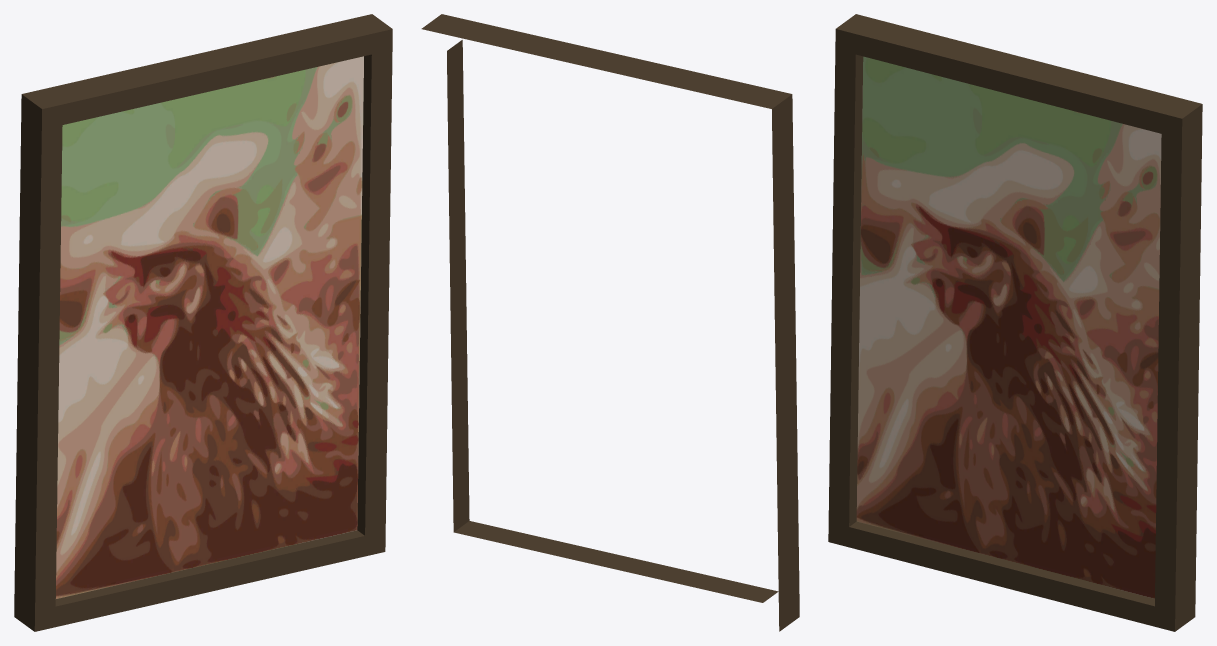
The model's file is TallPainting 2.glb.
3 views of the same model, side by side, from view 1: azimuth 30°, elevation 25°; view 2: azimuth 150°, elevation 25°; view 3: azimuth 330°, elevation 25° (orthographic).
Parts seen in each view (by area): view 1: Cube.001, Cube; view 2: Cube; view 3: Cube.001, Cube.
Boxes of the visible parts, x1,y1,x2,y2 form: Cube.001: [56, 56, 363, 598]; Cube: [14, 14, 392, 631]; Cube: [421, 14, 799, 631]; Cube.001: [856, 56, 1161, 598]; Cube: [828, 14, 1202, 631].
Bounding box in the file's own units: 0.7899 × 1.11 × 0.0786.
Materials: 2 (2 with a texture image).
